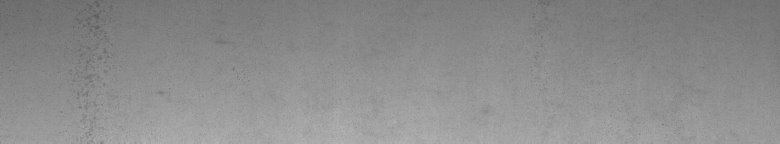ib: (85, 4, 164, 95)
